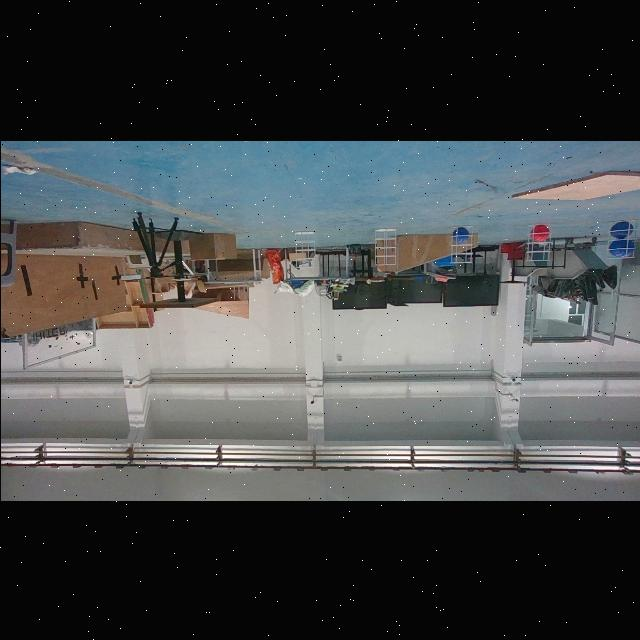B: (608, 238, 634, 256), (610, 222, 632, 238), (451, 226, 471, 240)
R: (528, 224, 550, 240)
S: (604, 216, 640, 260), (523, 220, 553, 262), (370, 225, 400, 267), (448, 222, 476, 266), (292, 228, 318, 270)
